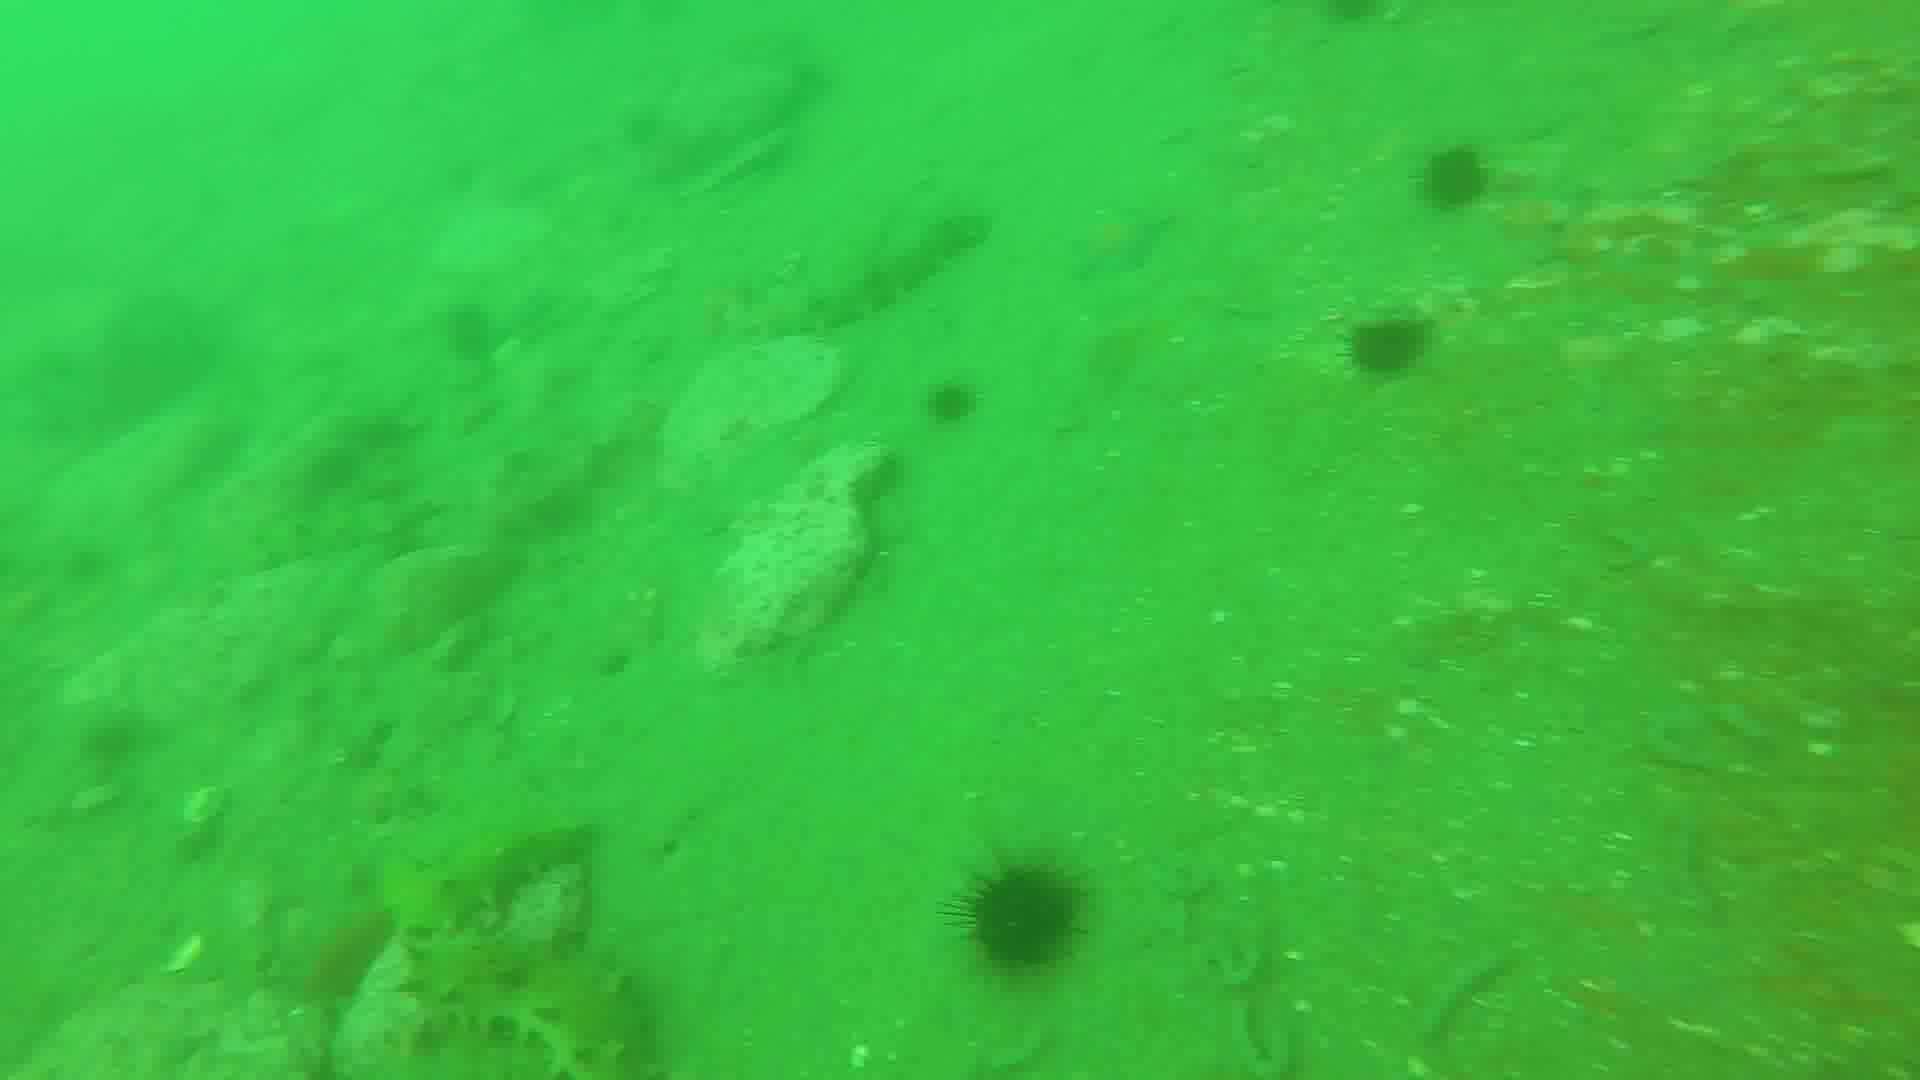echinus: (960, 856, 1088, 963), (1423, 140, 1493, 216), (1341, 315, 1433, 371), (934, 377, 981, 433)
holothurian: (400, 825, 650, 1080), (758, 218, 992, 349)
scallop: (185, 777, 237, 835)
starfish: (1073, 198, 1179, 284)
